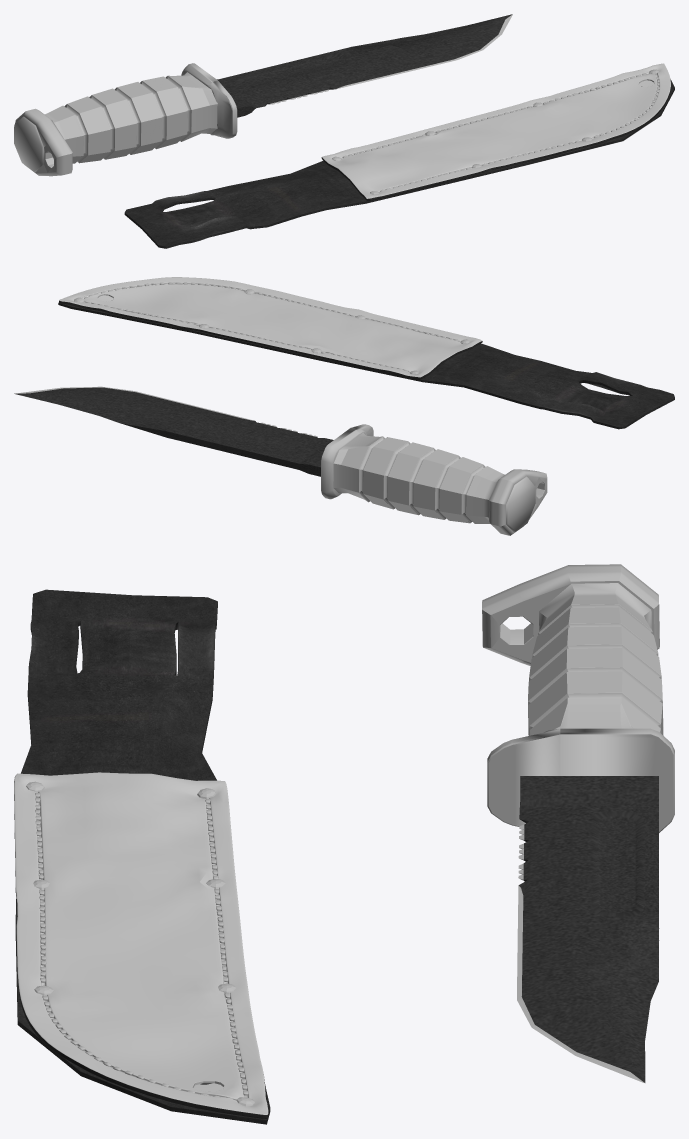
Rendered from KA-BAR_USMC_black_knife.fbx.
The picture shows the model from 3 angles, top to bottom: view 1: azimuth 30°, elevation 25°; view 2: azimuth 150°, elevation 25°; view 3: azimuth 270°, elevation 25°; orthographic projection. The views are drawn at different scales.
Parts seen in each view (by area): view 1: scabbard_top, black_knife_handle, scabbard_down, black_knife_blade, black_knife_garda, threads; view 2: scabbard_top, black_knife_handle, scabbard_down, black_knife_blade, black_knife_garda, threads; view 3: scabbard_top, black_knife_blade, scabbard_down, black_knife_handle, black_knife_garda, threads, rivets.
Part boxes in pixels (x1,y1,x2,y2): scabbard_top: (321, 63, 670, 200); black_knife_handle: (14, 72, 217, 176); scabbard_down: (124, 79, 674, 248); black_knife_blade: (217, 14, 512, 117); black_knife_garda: (181, 63, 237, 138); threads: (342, 73, 659, 191); scabbard_top: (59, 277, 482, 379); black_knife_handle: (333, 432, 547, 535); scabbard_down: (58, 302, 674, 429); black_knife_blade: (14, 386, 333, 476); black_knife_garda: (321, 424, 373, 499); threads: (84, 282, 458, 371); scabbard_top: (14, 772, 268, 1118); black_knife_blade: (517, 776, 659, 1082); scabbard_down: (15, 589, 270, 1124); black_knife_handle: (482, 564, 663, 735); black_knife_garda: (487, 728, 674, 832); threads: (35, 793, 248, 1098); rivets: (26, 781, 254, 1106).
Bounding box in the file's own units: 42.6 × 4.23 × 22.43.
